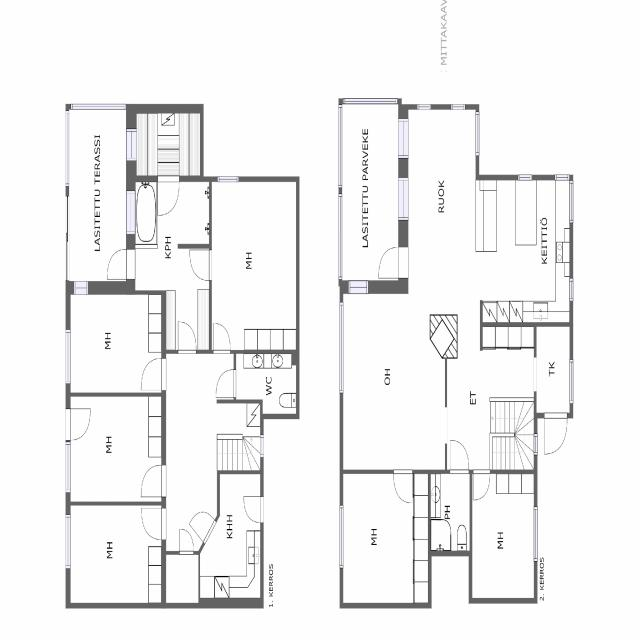door: (188, 500, 216, 544), (378, 247, 408, 278), (544, 413, 567, 453), (158, 175, 180, 216), (107, 249, 135, 279), (141, 358, 166, 390), (141, 508, 166, 539), (66, 408, 90, 440), (141, 466, 166, 496), (450, 439, 469, 474), (190, 250, 212, 280), (394, 469, 412, 503), (178, 322, 196, 354), (216, 370, 236, 397), (213, 324, 230, 354), (473, 469, 490, 499), (244, 497, 264, 522), (179, 528, 193, 555)
